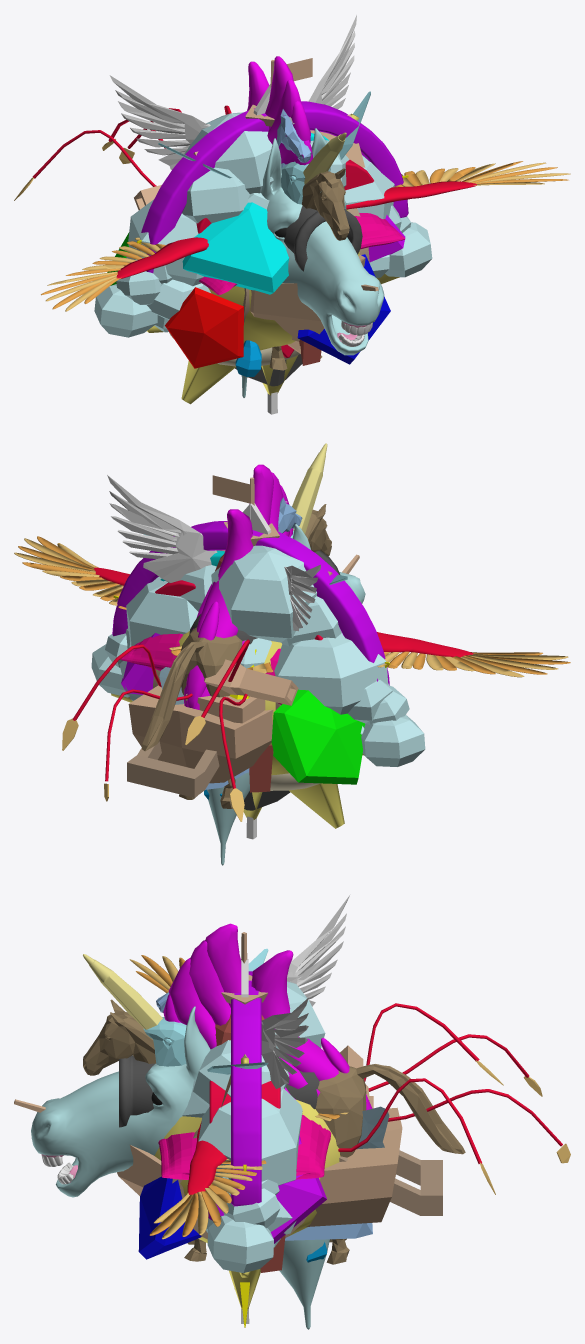
The model's file is items.fbx.
3 views of the same model, one above another, from view 1: azimuth 30°, elevation 25°; view 2: azimuth 150°, elevation 25°; view 3: azimuth 270°, elevation 25° (orthographic). The views are drawn at different scales.
Parts seen in each view (by area): view 1: Rainbow, UnicornHead, Diamond, RainClouds, Phoenix, Pegasus, PirateShip, Sun, Horse, Canon, Bird, Pillow (+2 smaller); view 2: RainClouds, Rainbow, Phoenix, PirateShip, UnicornHead, Diamond, Pegasus, Horse, Canon, Sun, Pillow, SpaceShip (+2 smaller); view 3: UnicornHead, Rainbow, Phoenix, Horse, PirateShip, RainClouds, Pegasus, Canon, Diamond, Pillow, Sun, Bird (+3 smaller).
Part boxes in pixels (x1,y1,x2,y2): Rainbow: (94,101,432,337); UnicornHead: (241,56,384,397); Diamond: (107,202,405,368); RainClouds: (128,112,394,376); Phoenix: (14,105,570,311); Pegasus: (109,15,356,169); PirateShip: (134,58,378,353); Sun: (147,113,399,404); Horse: (269,168,349,370); Canon: (243,205,369,322); Bird: (158,91,370,204); Pillow: (199,213,405,294); RainClouds: (126,545,388,800); Rainbow: (91,521,425,766); Phoenix: (14,536,570,821); PirateShip: (128,475,359,783); UnicornHead: (184,443,365,865); Diamond: (121,633,365,784); Pegasus: (107,475,320,789); Horse: (142,504,331,808); Canon: (127,550,340,797); Sun: (111,631,364,828); Pillow: (120,633,281,704); SpaceShip: (215,552,273,792); UnicornHead: (31,923,372,1329); Rainbow: (206,971,296,1273); Phoenix: (129,955,570,1239); Horse: (83,999,465,1264); PirateShip: (14,932,402,1226); RainClouds: (182,981,326,1262); Pegasus: (156,895,372,1240); Canon: (119,1055,442,1239); Diamond: (138,1135,326,1259); Pillow: (158,1115,331,1179); Sun: (154,1058,340,1308); Bird: (143,948,268,1074).
Bounding box in the file's own units: 6.44 × 4.29 × 5.33.
